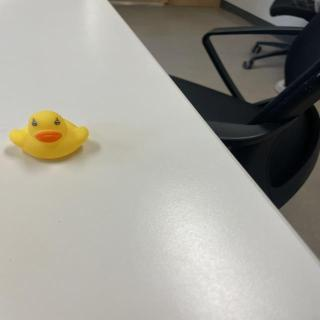duck_regular: (9, 110, 91, 161)
